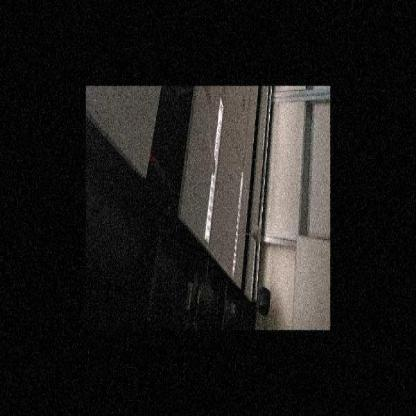light_on: (201, 93, 226, 240), (229, 163, 245, 287), (249, 237, 257, 302)
